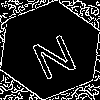N: (25, 25, 80, 81)
